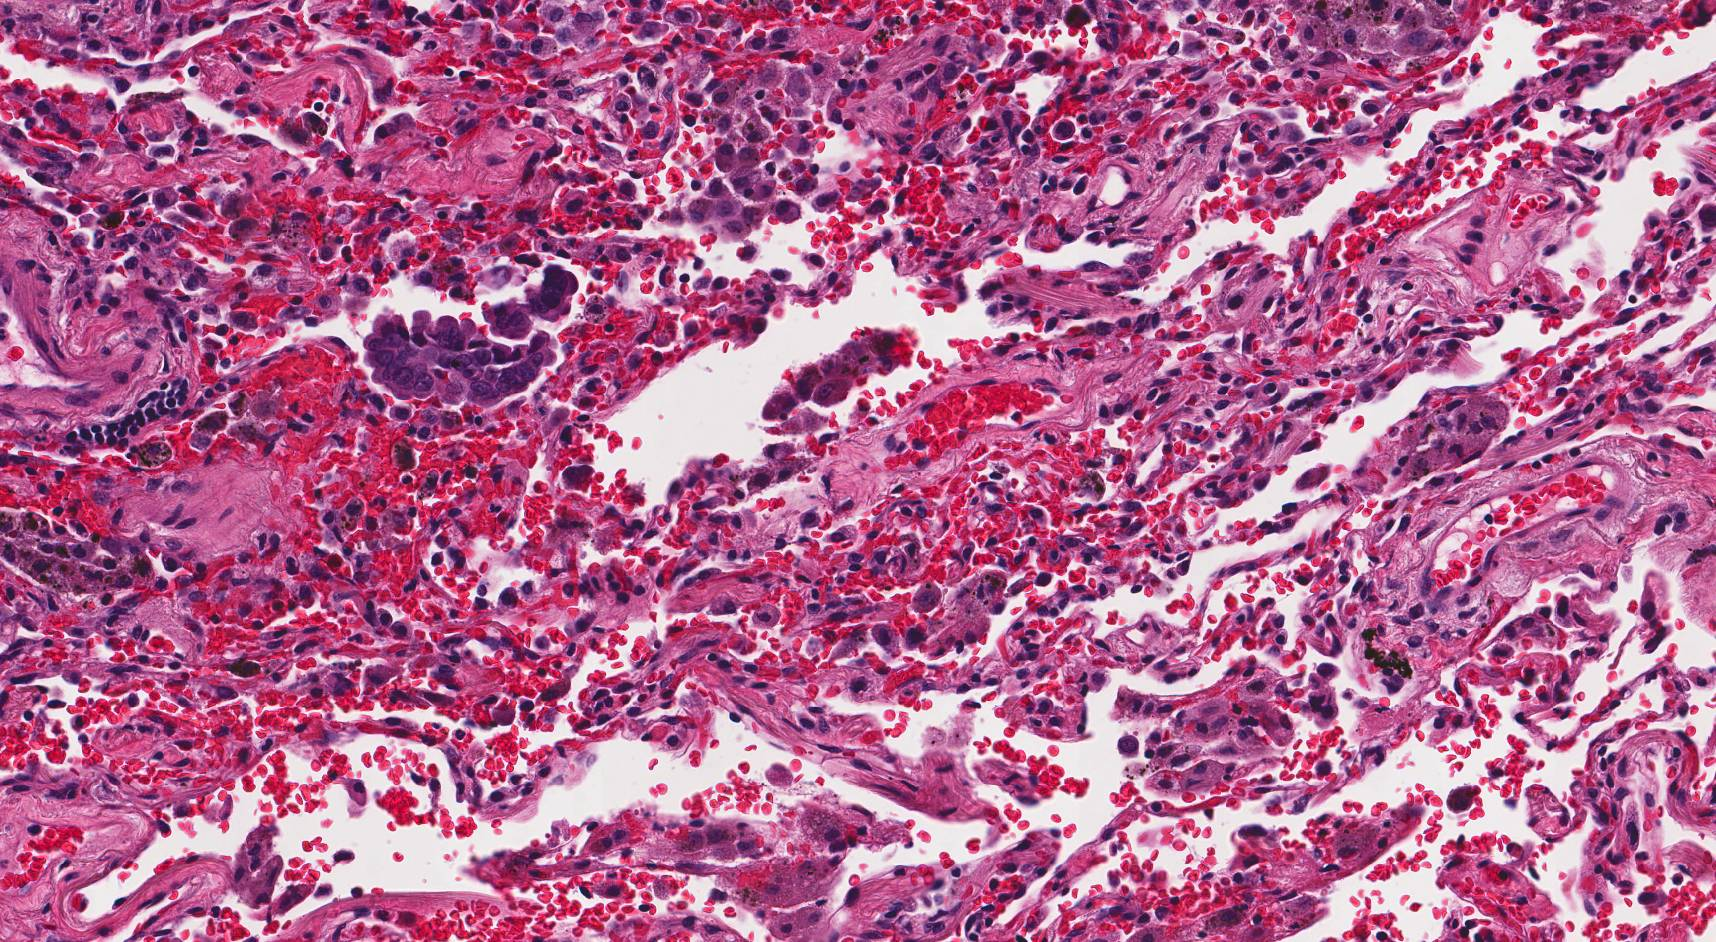stas: (365, 267, 578, 407)
